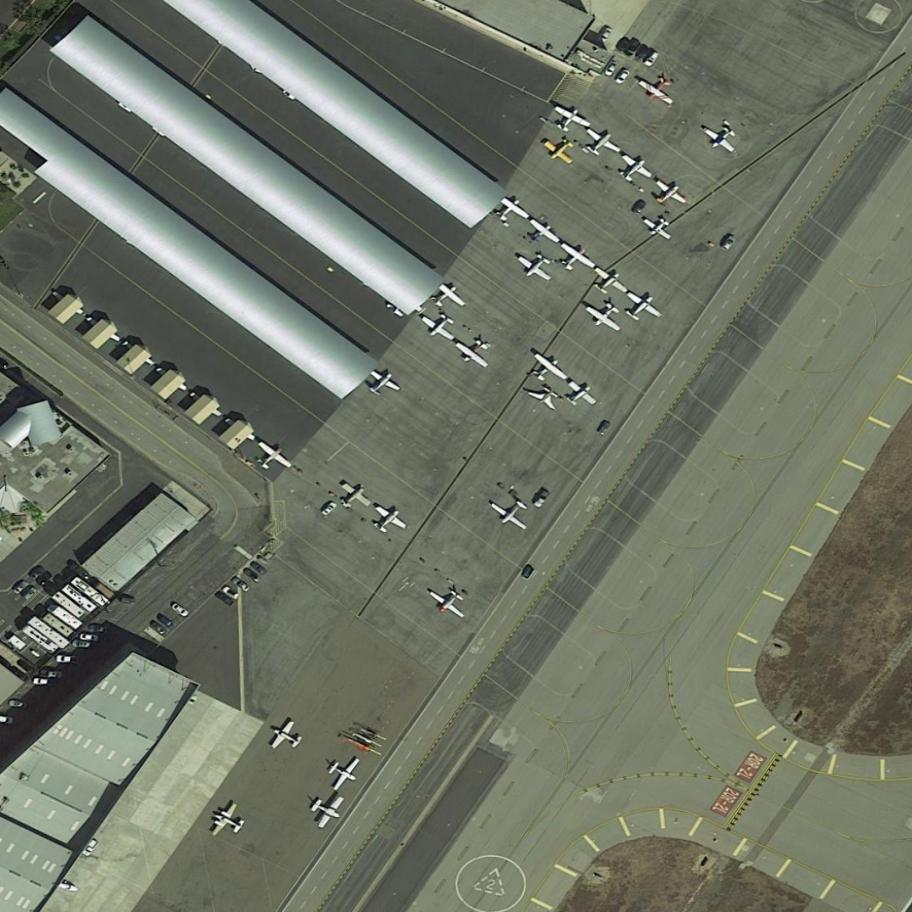large-vehicle: (27, 614, 71, 651), (71, 575, 113, 610), (50, 588, 90, 622), (21, 623, 62, 656), (61, 583, 100, 617), (50, 603, 84, 634), (42, 611, 76, 640), (143, 624, 167, 646)
plane: (421, 272, 475, 324), (485, 487, 540, 538), (616, 282, 669, 333), (522, 345, 576, 395), (319, 747, 369, 800), (247, 434, 299, 483), (484, 189, 535, 238), (303, 785, 351, 837), (609, 145, 660, 193), (549, 235, 601, 282), (206, 795, 253, 846), (424, 578, 475, 625), (449, 329, 500, 376), (584, 259, 634, 306), (576, 121, 627, 167), (512, 243, 561, 289), (545, 98, 596, 142), (581, 294, 630, 339), (697, 116, 745, 161), (330, 475, 378, 520), (266, 712, 311, 760), (634, 68, 683, 112), (365, 498, 413, 542), (358, 361, 406, 405), (417, 305, 465, 349), (645, 173, 692, 217), (558, 373, 603, 417), (538, 128, 583, 171), (521, 213, 565, 255), (638, 210, 678, 247), (526, 380, 565, 416)
small-vehicle: (171, 600, 194, 622), (213, 589, 238, 609), (533, 487, 553, 510), (613, 65, 634, 85), (12, 577, 33, 597), (155, 612, 176, 632), (232, 575, 254, 594), (636, 43, 655, 63), (222, 584, 243, 602), (320, 501, 339, 520), (644, 50, 662, 70), (250, 559, 270, 577), (627, 39, 644, 60), (243, 566, 264, 583), (29, 563, 48, 581), (632, 198, 650, 217), (604, 59, 621, 79), (722, 234, 739, 253), (150, 619, 169, 636), (596, 419, 613, 438), (7, 698, 31, 711), (22, 585, 40, 602), (521, 564, 537, 582), (599, 25, 613, 43), (119, 593, 140, 605), (87, 624, 111, 634), (80, 632, 103, 642), (56, 655, 80, 664), (42, 669, 66, 678), (73, 640, 94, 649), (33, 677, 54, 686)
